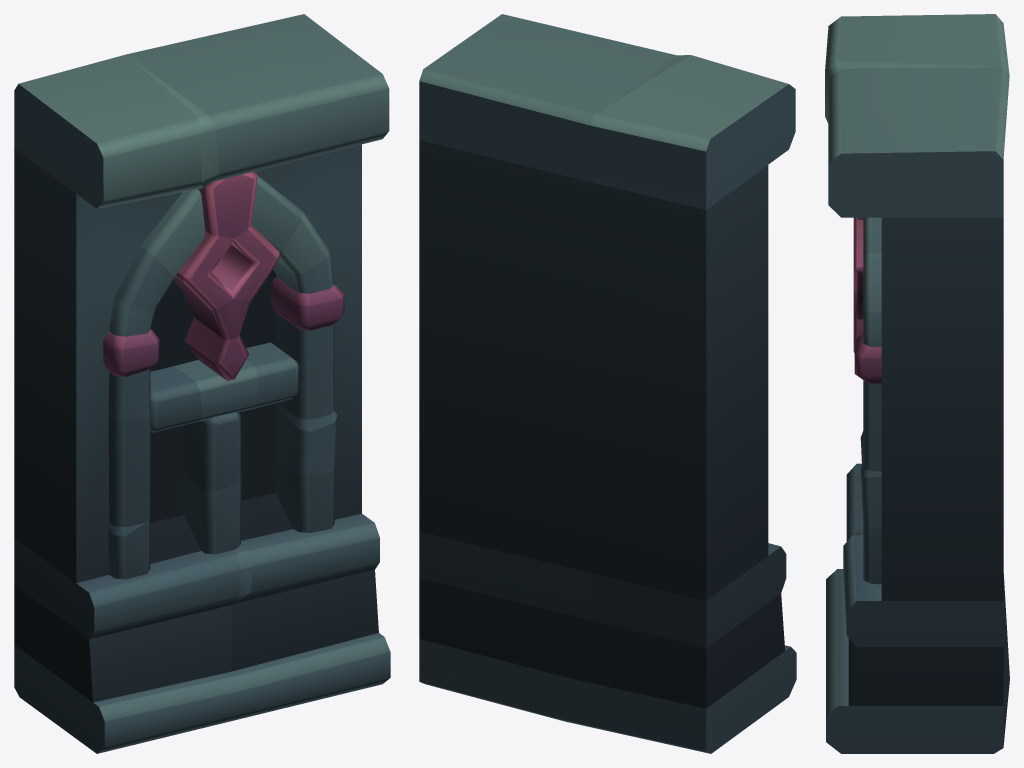
The model's file is wall_element_tileable_deco3_2meters.fbx.
3 views of the same model, side by side, from view 1: azimuth 30°, elevation 25°; view 2: azimuth 150°, elevation 25°; view 3: azimuth 270°, elevation 25° (orthographic). The views are drawn at different scales.
Visible parts, largest first — view 1: wall_element_tileable_deco3_2meters; view 2: wall_element_tileable_deco3_2meters; view 3: wall_element_tileable_deco3_2meters.
Part boxes in pixels (bbox=[...]): wall_element_tileable_deco3_2meters: bbox=[14, 14, 390, 753]; wall_element_tileable_deco3_2meters: bbox=[419, 14, 796, 753]; wall_element_tileable_deco3_2meters: bbox=[825, 14, 1009, 753].
Bounding box in the file's own units: 200 × 410 × 114.
